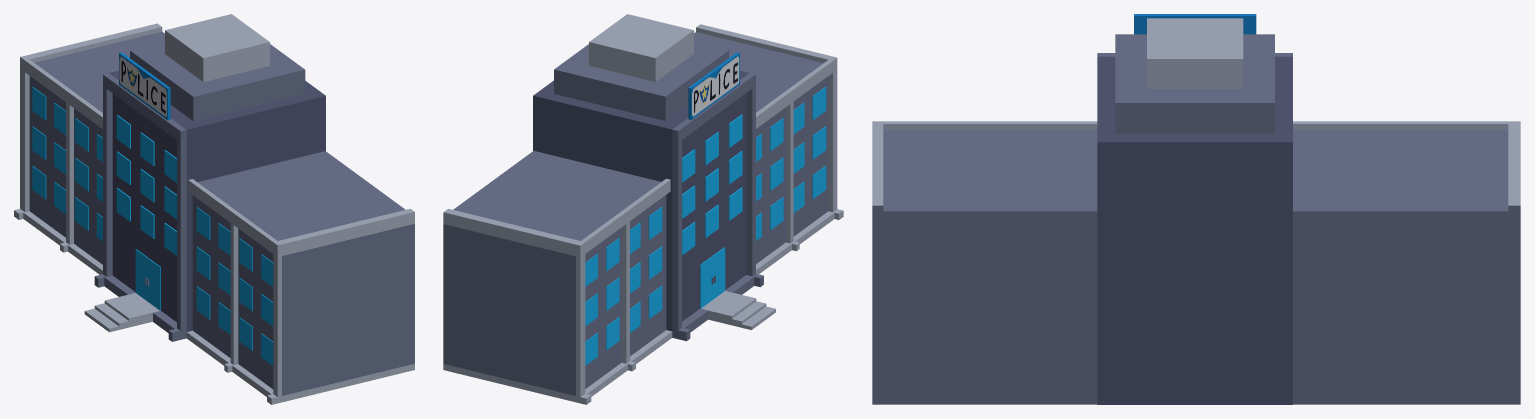
Rendered from F_PoliceStation_001.fbx.
3 renders of one model, left to right at view 1: azimuth 30°, elevation 25°; view 2: azimuth 150°, elevation 25°; view 3: azimuth 270°, elevation 25°, orthographic. The views are drawn at different scales.
Visible parts, largest first — view 1: F_PoliceStation_001; view 2: F_PoliceStation_001; view 3: F_PoliceStation_001.
Boxes of the visible parts, x1=… form: F_PoliceStation_001: x1=14, y1=14, x2=414, y2=404; F_PoliceStation_001: x1=443, y1=14, x2=843, y2=404; F_PoliceStation_001: x1=872, y1=14, x2=1520, y2=404.
Size of the model in its own units: 1434 by 1840 by 3342.
